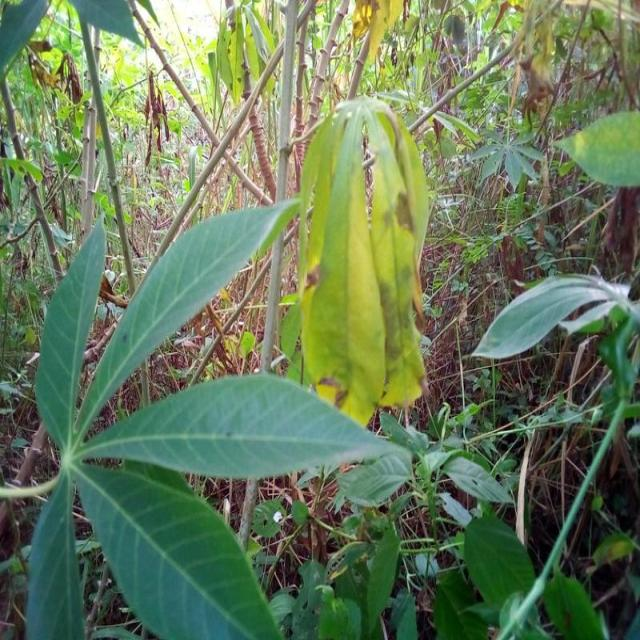cassava leaf: (71, 193, 302, 445), (297, 95, 429, 427), (70, 458, 284, 639), (78, 371, 408, 480), (470, 271, 631, 360), (552, 109, 639, 188)
